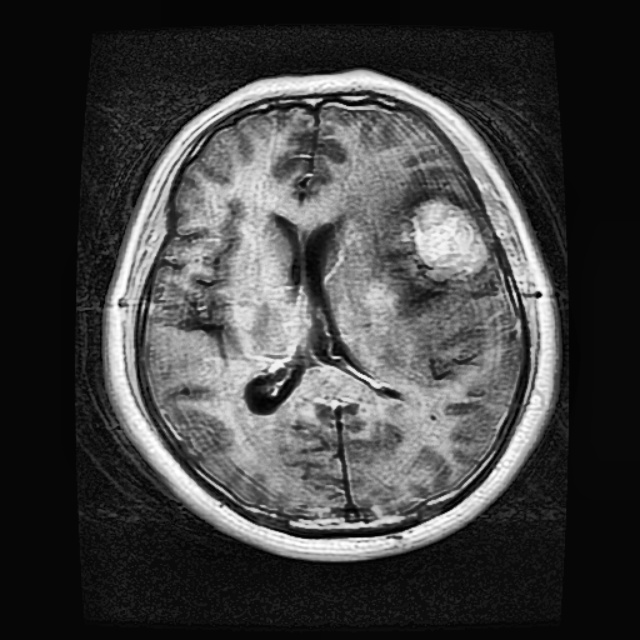Pituitary: (409, 198, 488, 278)
